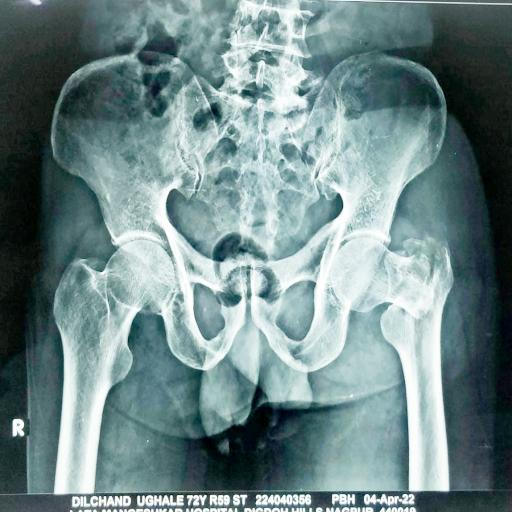neck: (379, 231, 454, 395), (331, 238, 434, 320)
normal: (54, 241, 175, 432)
